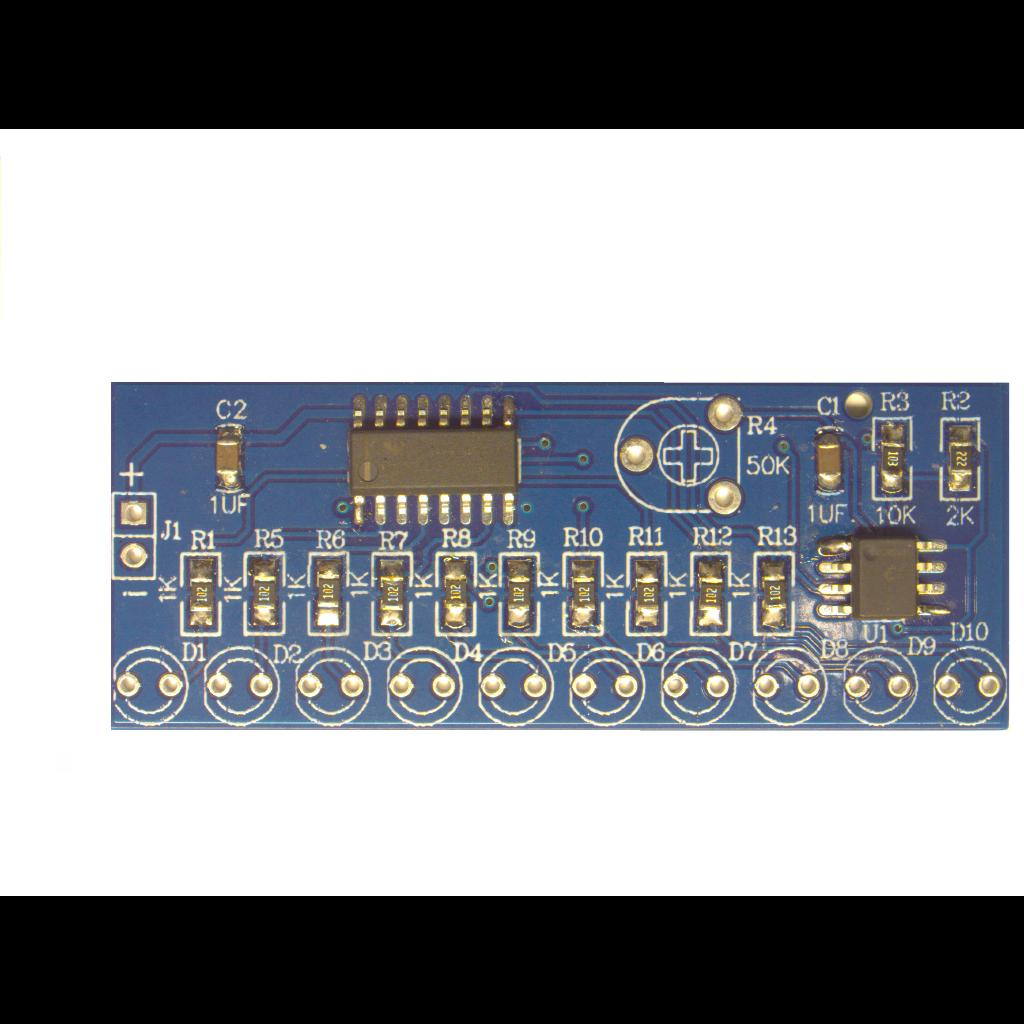OK: (342, 386, 530, 536), (808, 528, 960, 628), (368, 550, 416, 640), (496, 550, 544, 640), (432, 550, 480, 640), (689, 548, 735, 640), (240, 550, 288, 638), (177, 549, 223, 637), (751, 549, 797, 637), (306, 550, 352, 638), (560, 550, 606, 638), (623, 550, 669, 638), (938, 417, 984, 499), (870, 414, 914, 498), (810, 420, 850, 498), (212, 420, 248, 496)
